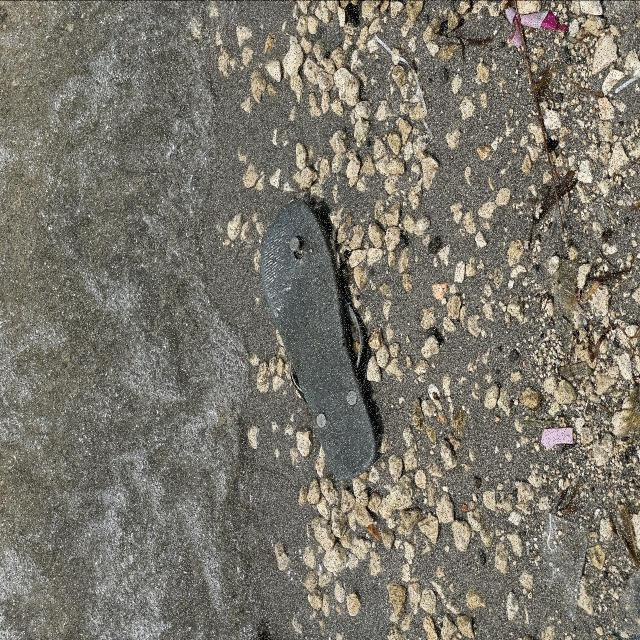rubber_waste: (262, 196, 378, 480)
